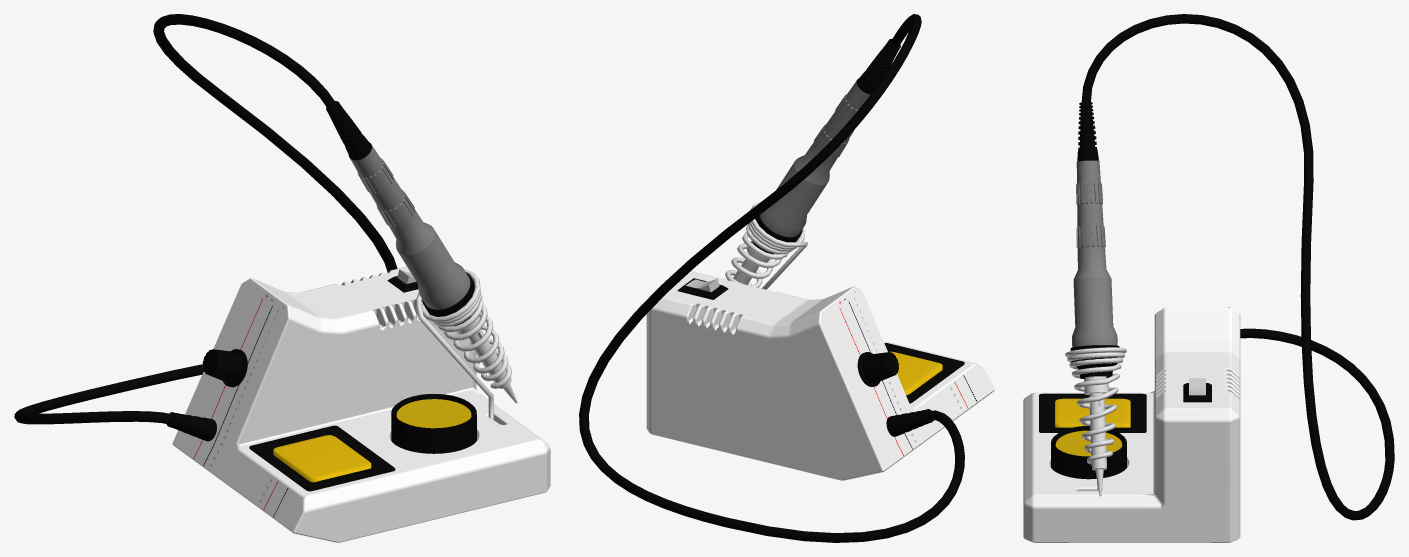
File: soldering-station.fbx
3 views of the same model, side by side, from view 1: azimuth 30°, elevation 25°; view 2: azimuth 150°, elevation 25°; view 3: azimuth 270°, elevation 25° (orthographic). The views are drawn at different scales.
Visible parts, largest first — view 1: Soldering Station, Cable, Iron, Iron Holder, Sponge, Brass Holder, Sponge Holder, Brass, Temperature Knob, Cylinder.001; view 2: Soldering Station, Cable, Iron, Iron Holder, Sponge, Sponge Holder, Temperature Knob, Cylinder.001; view 3: Soldering Station, Cable, Iron, Iron Holder, Brass Holder, Sponge Holder, Sponge, Brass, Cylinder.
Boxes of the visible parts, bbox=[...] form: Soldering Station: bbox=[172, 266, 550, 542]; Cable: bbox=[14, 14, 397, 424]; Iron: bbox=[326, 101, 517, 403]; Iron Holder: bbox=[416, 269, 511, 424]; Sponge: bbox=[273, 435, 371, 482]; Brass Holder: bbox=[391, 394, 476, 453]; Sponge Holder: bbox=[249, 425, 395, 491]; Brass: bbox=[396, 399, 471, 428]; Temperature Knob: bbox=[202, 349, 247, 387]; Cylinder.001: bbox=[166, 412, 216, 441]; Soldering Station: bbox=[646, 271, 994, 480]; Cable: bbox=[579, 14, 964, 542]; Iron: bbox=[733, 39, 900, 284]; Iron Holder: bbox=[725, 202, 808, 289]; Sponge: bbox=[890, 351, 942, 395]; Sponge Holder: bbox=[884, 343, 964, 403]; Temperature Knob: bbox=[857, 352, 898, 386]; Cylinder.001: bbox=[886, 409, 933, 436]; Soldering Station: bbox=[1023, 307, 1240, 542]; Cable: bbox=[1081, 14, 1394, 520]; Iron: bbox=[1072, 102, 1117, 496]; Iron Holder: bbox=[1065, 347, 1126, 491]; Brass Holder: bbox=[1051, 426, 1126, 479]; Sponge Holder: bbox=[1039, 393, 1146, 432]; Sponge: bbox=[1055, 398, 1130, 427]; Brass: bbox=[1055, 430, 1122, 456]; Cylinder: bbox=[1070, 345, 1119, 378].
Bounding box in the file's own units: 20.9 × 24.45 × 19.5.
